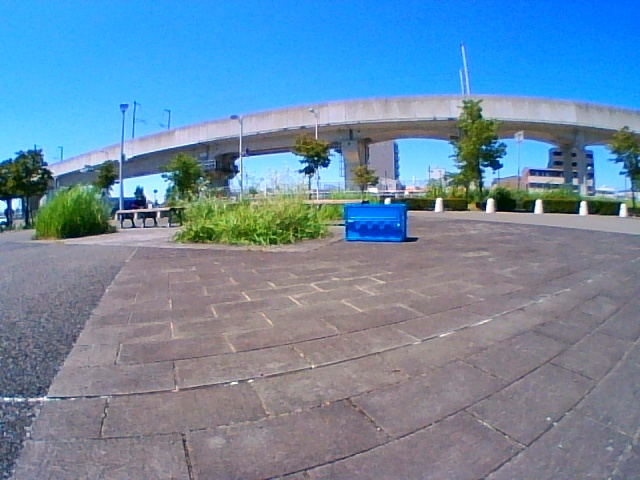blue_box: (345, 205, 406, 240)
